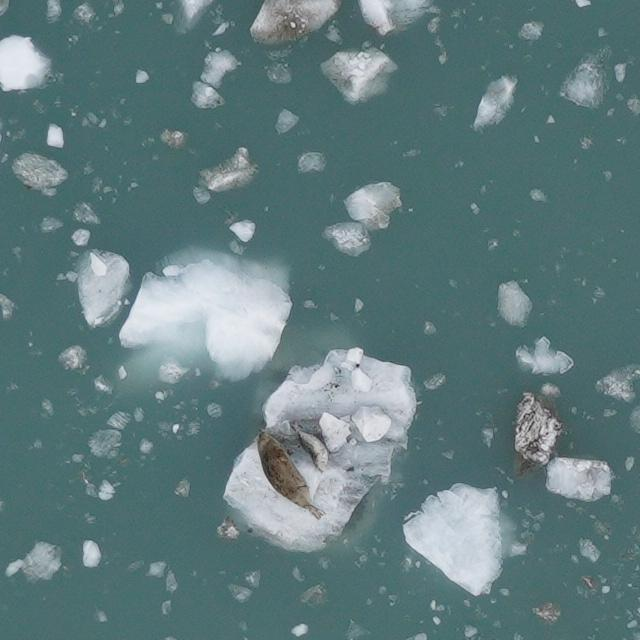seal: (253, 425, 329, 523), (286, 421, 331, 476)
